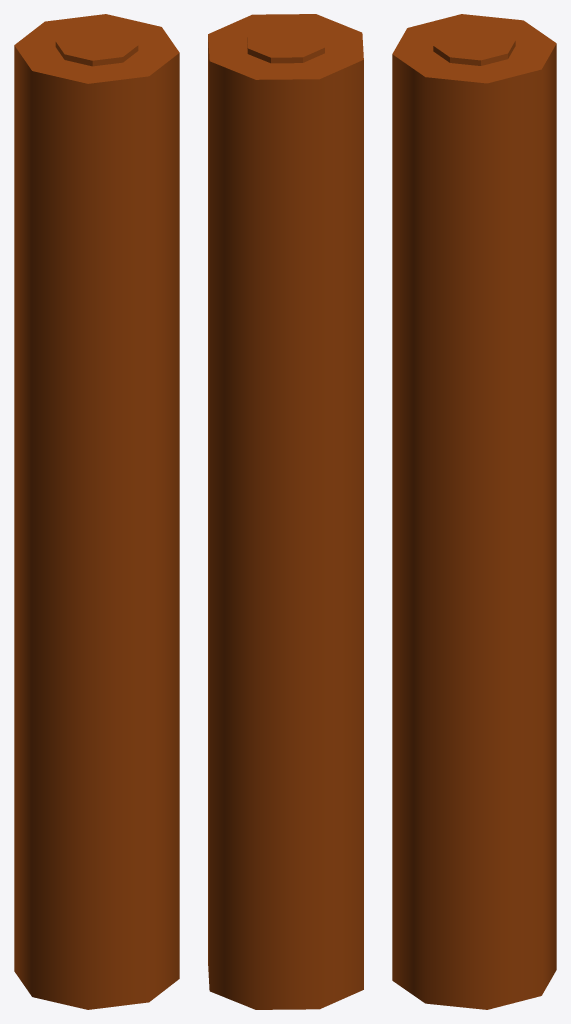
The model's file is Fence #1.FBX.
3 renders of one model, left to right at view 1: azimuth 30°, elevation 25°; view 2: azimuth 150°, elevation 25°; view 3: azimuth 270°, elevation 25°, orthographic.
Parts seen in each view (by area): view 1: Cylinder002; view 2: Cylinder002; view 3: Cylinder002.
Boxes of the visible parts, bbox=[...] form: Cylinder002: bbox=[14, 14, 179, 1009]; Cylinder002: bbox=[208, 14, 363, 1009]; Cylinder002: bbox=[392, 14, 556, 1009].
Size of the model in its own units: 8.18 by 51.13 by 8.18.
